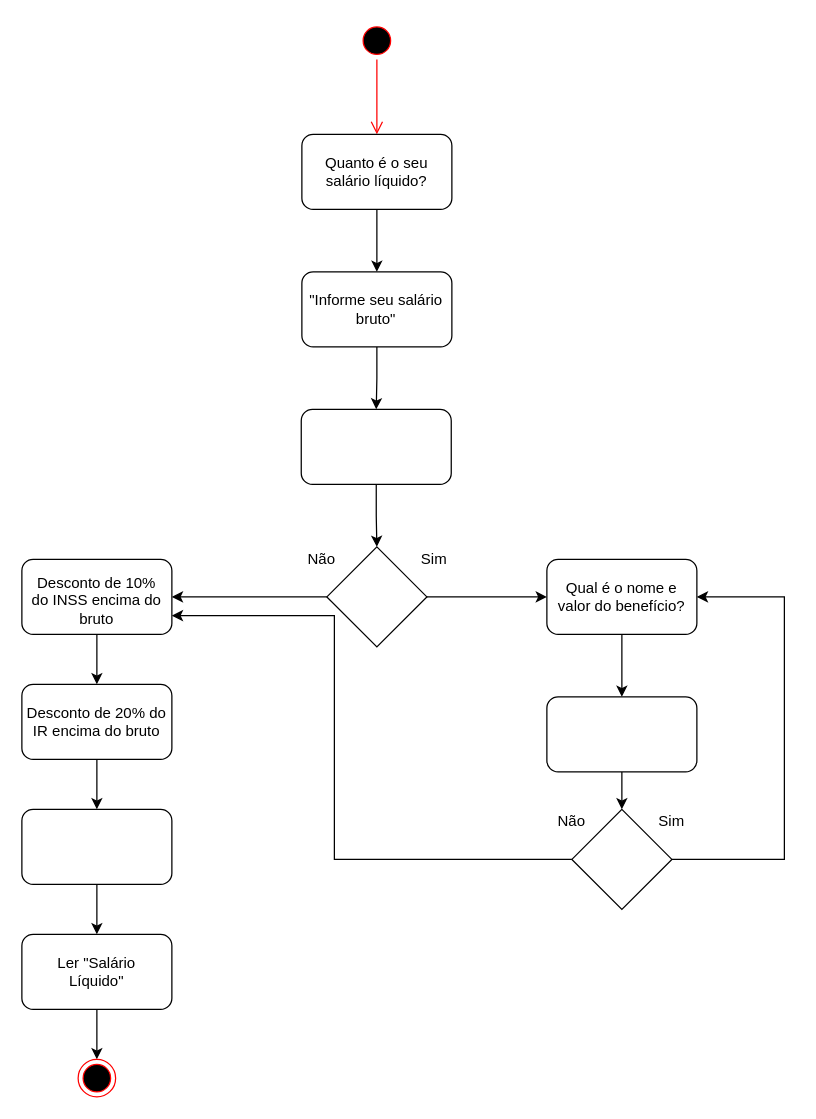
Some shapes in this 816 by 1119 pixel diagram are drawn without their labels. Each missing label, with the centre of its shape:
O Sistema vai calcular (Descontos - S. Bruto + Benefícios): point (96, 846)
Recebe algum benefício?: point (375, 446)
Tem mais algum benefício?: point (621, 734)
